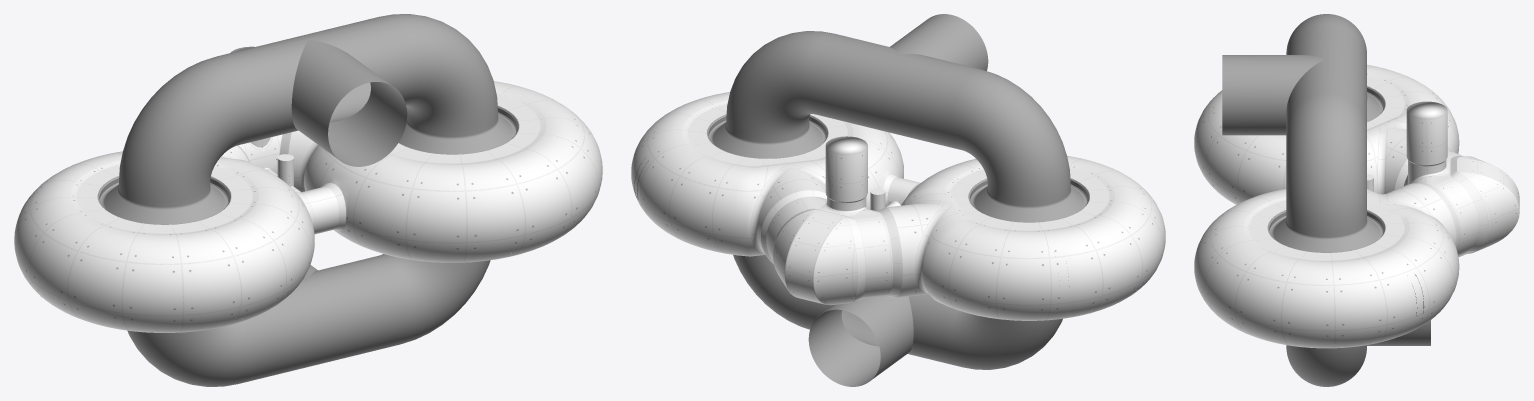
The model's file is Generator.fbx.
The picture shows the model from 3 angles, left to right: view 1: azimuth 30°, elevation 25°; view 2: azimuth 150°, elevation 25°; view 3: azimuth 270°, elevation 25°; orthographic projection. The views are drawn at different scales.
Parts seen in each view (by area): view 1: GeneratorWalls, GeneratorConcrete; view 2: GeneratorWalls, GeneratorConcrete; view 3: GeneratorWalls, GeneratorConcrete.
Part boxes in pixels (x1=…): GeneratorWalls: x1=14, y1=46, x2=602, y2=332; GeneratorConcrete: x1=97, y1=14, x2=519, y2=386; GeneratorWalls: x1=631, y1=92, x2=1165, y2=320; GeneratorConcrete: x1=707, y1=14, x2=1089, y2=386; GeneratorWalls: x1=1194, y1=64, x2=1519, y2=348; GeneratorConcrete: x1=1222, y1=14, x2=1430, y2=386.
Size of the model in its own units: 4188 by 2349 by 2442.
